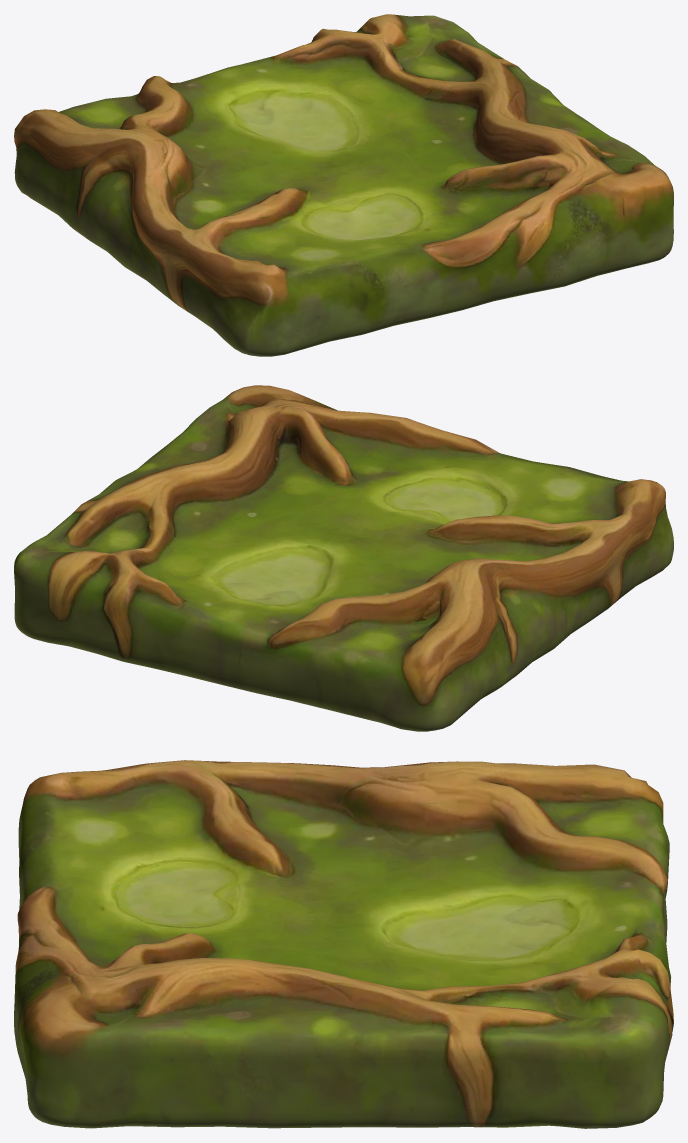
The model's file is gndx_swamp.glb.
The picture shows the model from 3 angles, top to bottom: view 1: azimuth 30°, elevation 25°; view 2: azimuth 150°, elevation 25°; view 3: azimuth 270°, elevation 25°; orthographic projection. The views are drawn at different scales.
Visible parts, largest first — view 1: Mesh0; view 2: Mesh0; view 3: Mesh0.
Boxes of the visible parts, x1,y1,x2,y2 form: Mesh0: [14, 14, 673, 356]; Mesh0: [14, 385, 673, 731]; Mesh0: [14, 760, 673, 1128].
Size of the model in its own units: 1.91 by 0.4548 by 1.89.
Materials: 1 (1 with a texture image).
